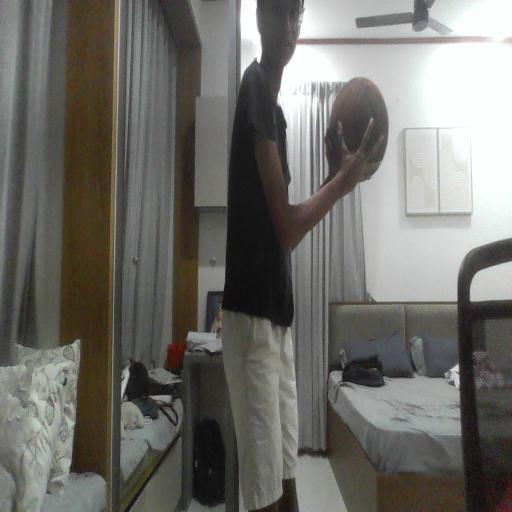basketball: (326, 77, 388, 162)
